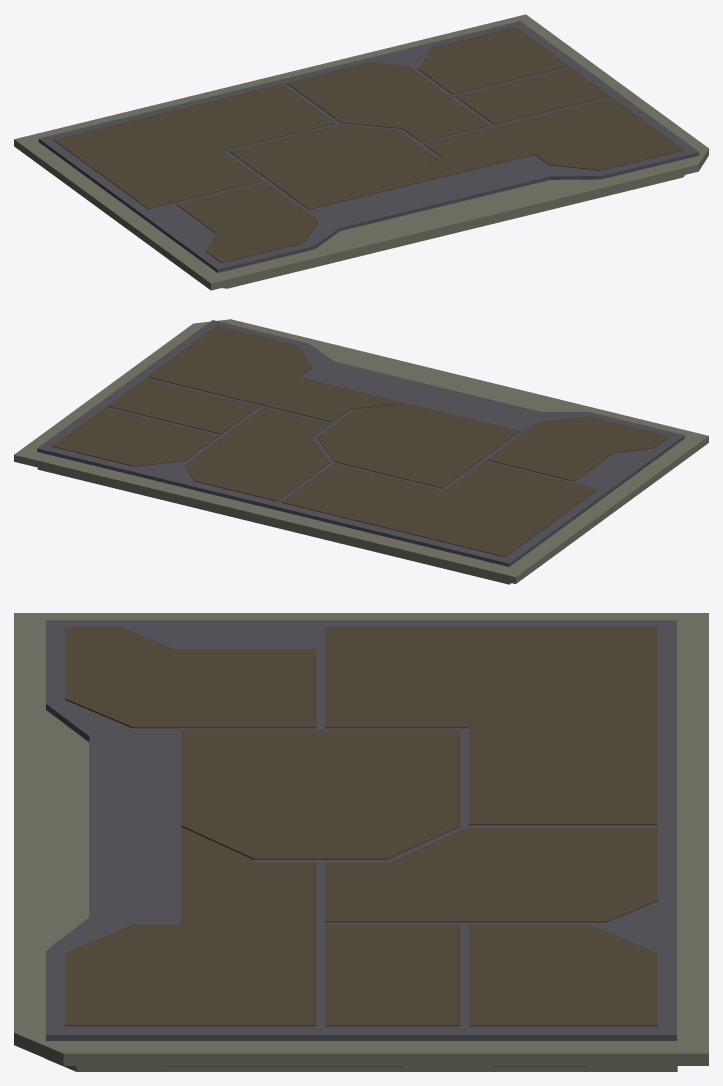
The model's file is LPSciFi_LandingPad.fbx.
3 renders of one model, top to bottom at view 1: azimuth 30°, elevation 25°; view 2: azimuth 150°, elevation 25°; view 3: azimuth 270°, elevation 25°, orthographic. The views are drawn at different scales.
Parts seen in each view (by area): view 1: LandingPad; view 2: LandingPad; view 3: LandingPad.
Part boxes in pixels (x1,y1,x2,y2): LandingPad: (14, 14, 708, 290); LandingPad: (14, 319, 708, 584); LandingPad: (14, 613, 708, 1071).
Bounding box in the file's own units: 3000 × 124 × 2000.
